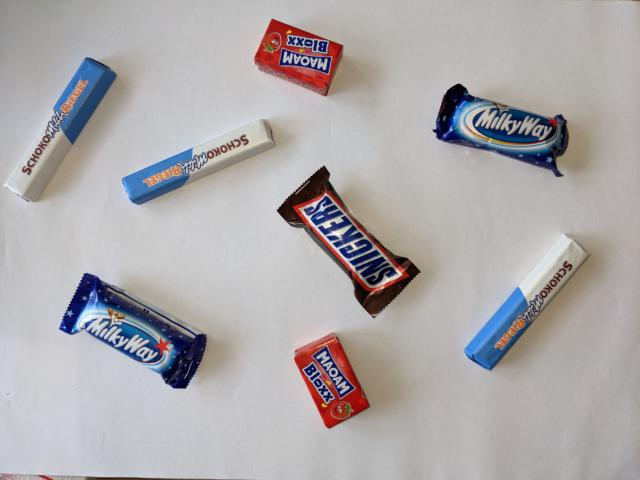MAOAM: (291, 330, 373, 431), (251, 16, 346, 98)
MilkyWay: (56, 271, 209, 391), (430, 82, 573, 179)
Schokoriegel: (461, 229, 594, 374), (1, 54, 120, 208), (118, 117, 280, 208)
Snickers: (274, 163, 423, 323)
